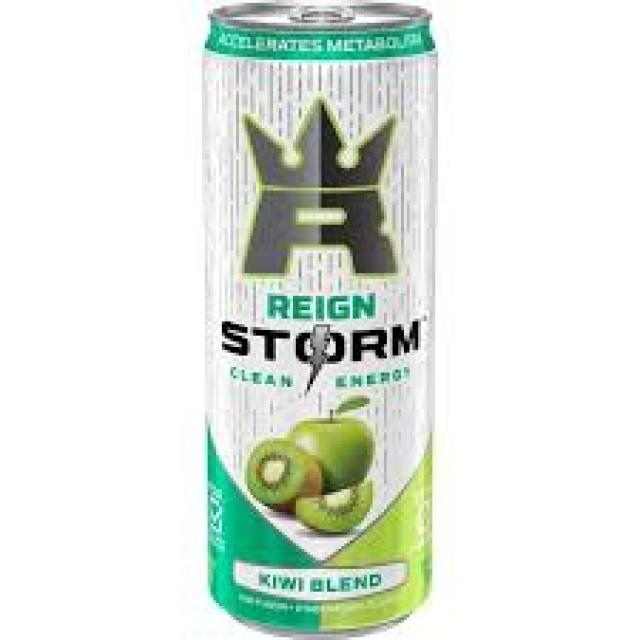Cans: (188, 3, 452, 640)
